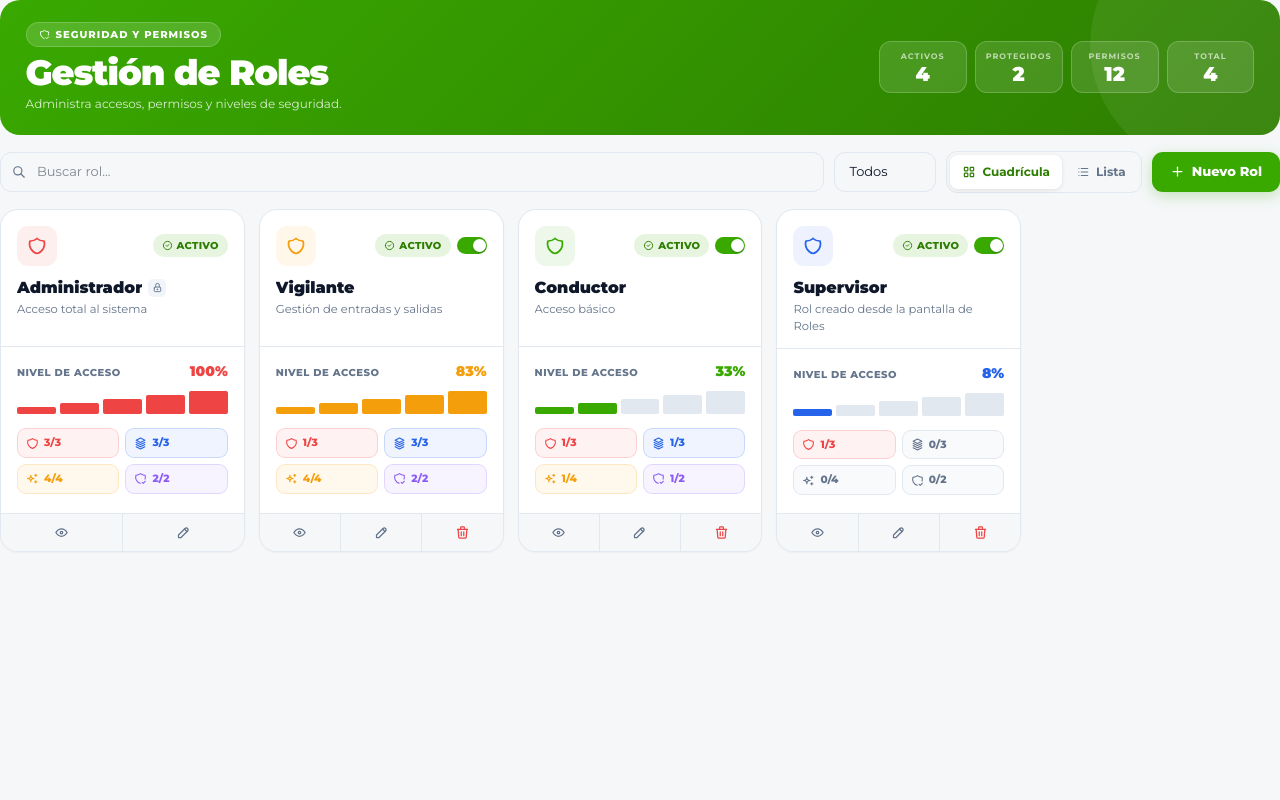
Test: Roles › abre el detalle de un rol al hacer click en "Ver detalle" y permite pasar a edición
The image size is (1280, 800).
Expected: the heading "Administrador" is shown, x1=17 y1=278 x2=142 y2=297
Click the button named "Ver detalle de Administrador" at (61,533), box x1=1 y1=514 x2=122 y2=551
(page scrolled)
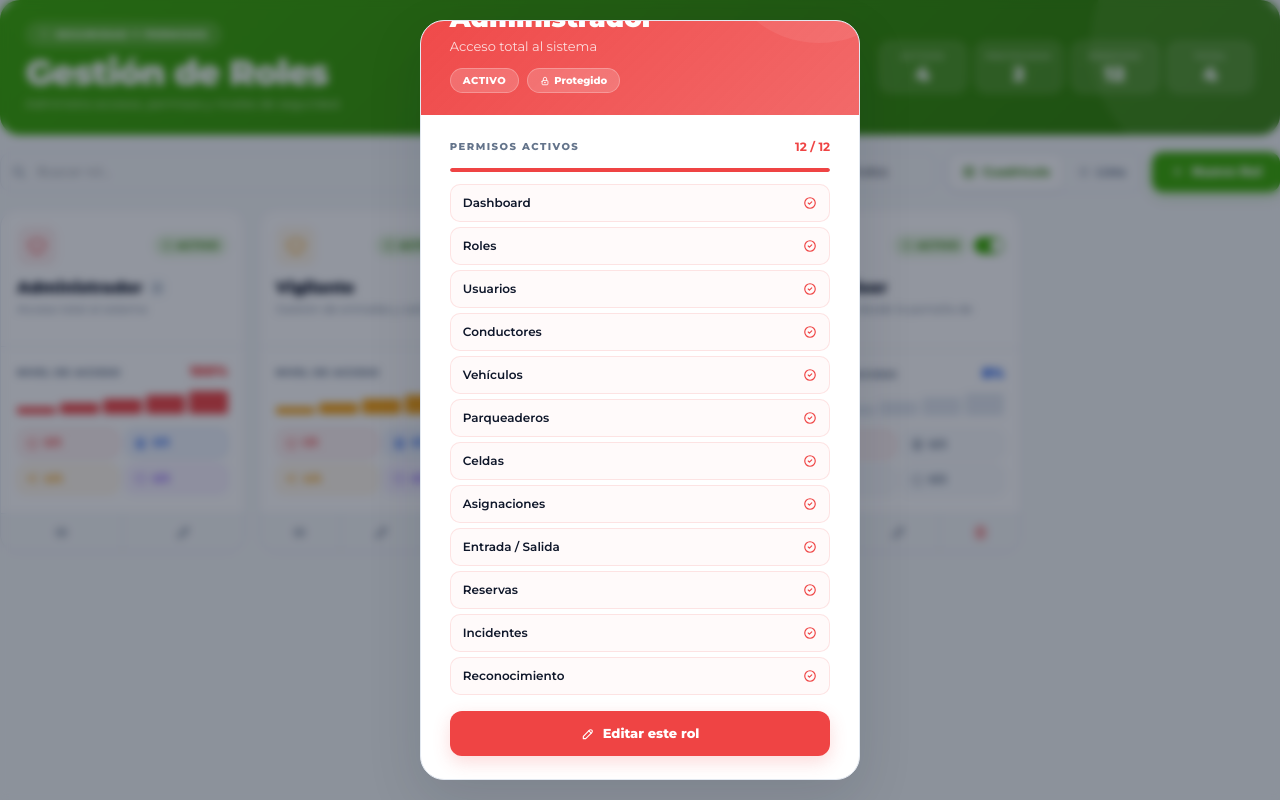
Click the button "Editar este rol" at (640,734), box x1=450 y1=711 x2=830 y2=756
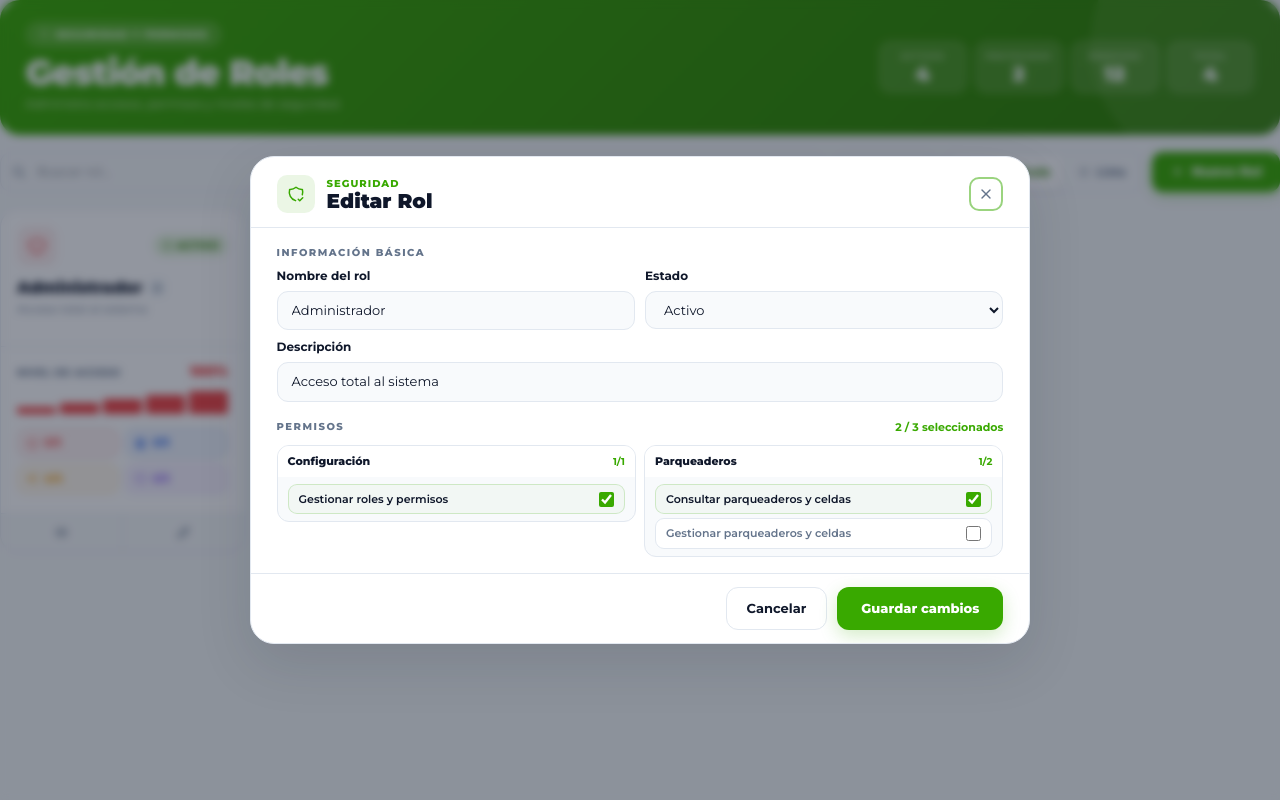
Expected: the heading "Editar Rol" is shown, x1=327 y1=191 x2=432 y2=211
Expected: the field labelled "Nombre del rol" holds "Administrador", x1=277 y1=291 x2=635 y2=330
